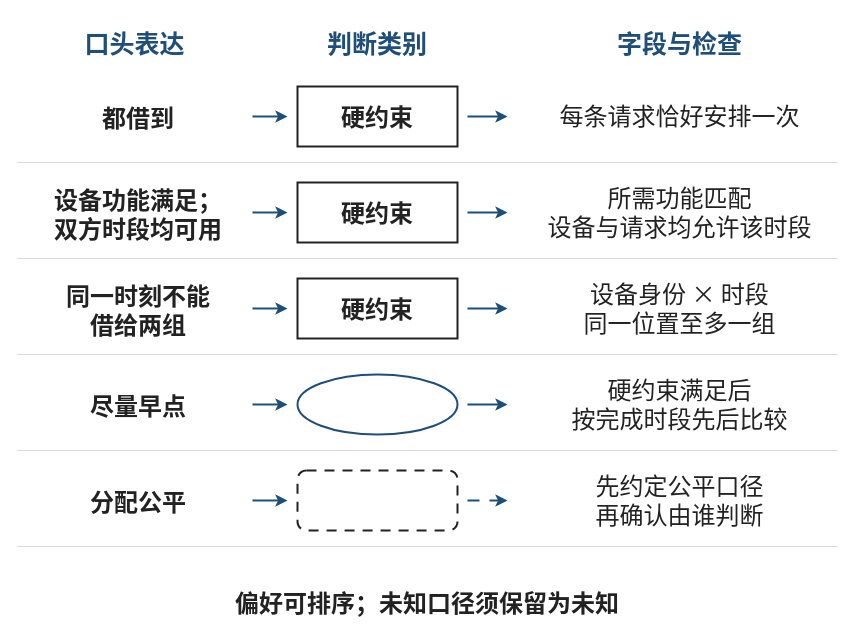
This 856x636 diagram has some shape labels left out. Each missing label, with the box of its shape:
偏好: (296, 373, 458, 435)
待确认: (296, 469, 458, 531)
